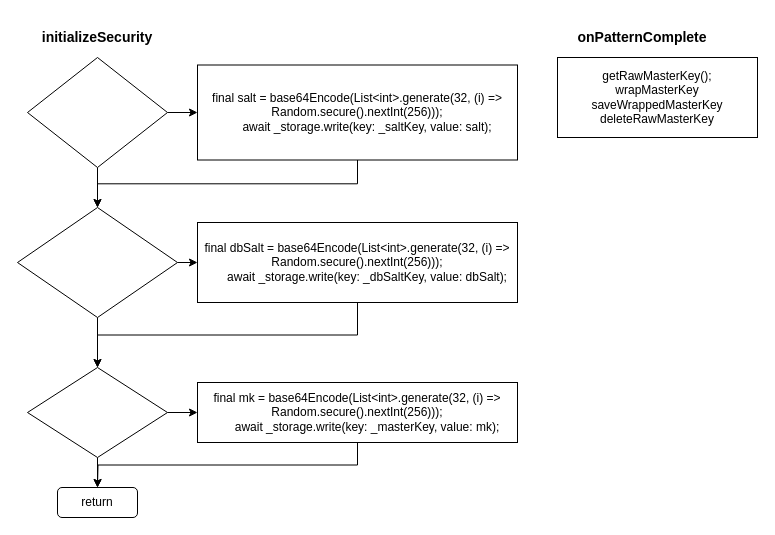
Image size: 775x535. Some labels were removed from this diagram. The box of each missing label's shape, as (x1, y1, x2, y2) in pixels:
if (existingDbSalt == null): (16, 206, 178, 318)
if (existingMK == null): (26, 366, 168, 458)
if (existingSalt == null): (26, 56, 168, 168)
